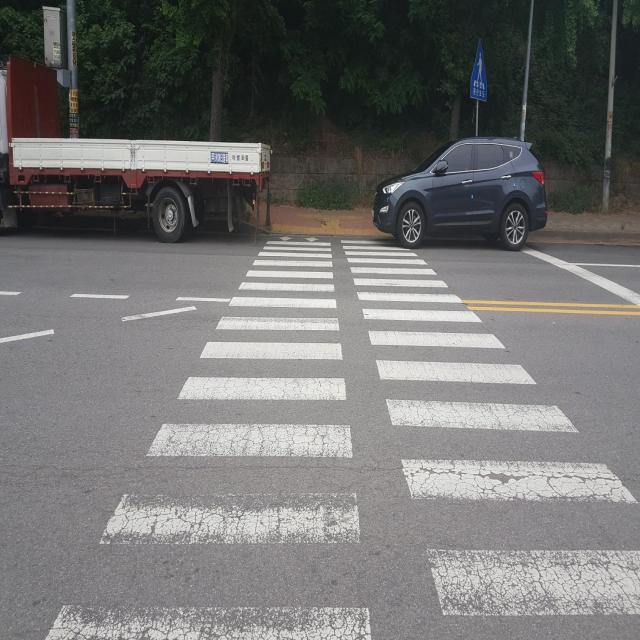횡단보도: (43, 225, 639, 640)
